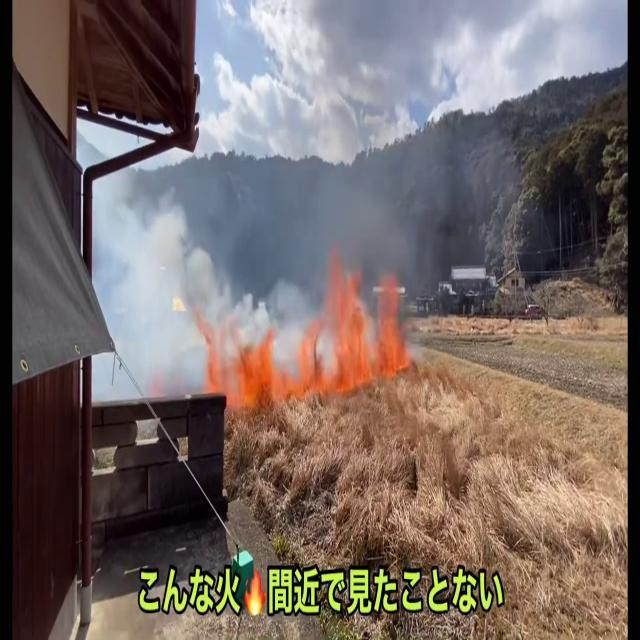Fire: (313, 263, 409, 403), (211, 312, 305, 422)
Smoke: (86, 183, 246, 400)
